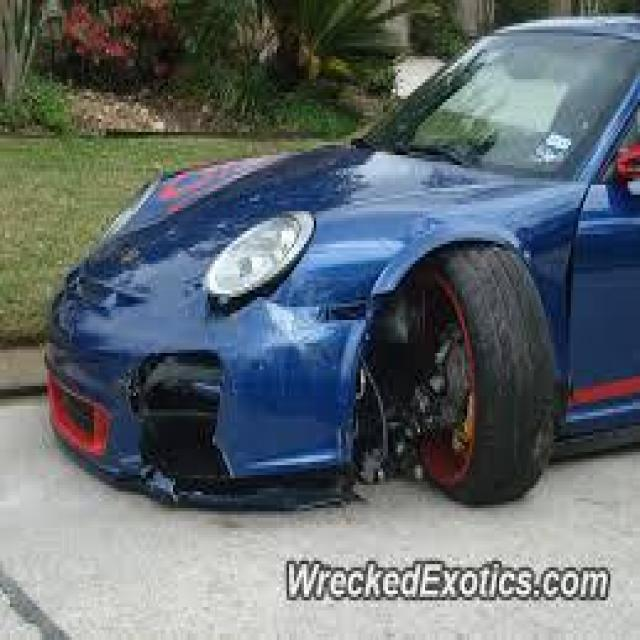damaged: (123, 264, 470, 502)
